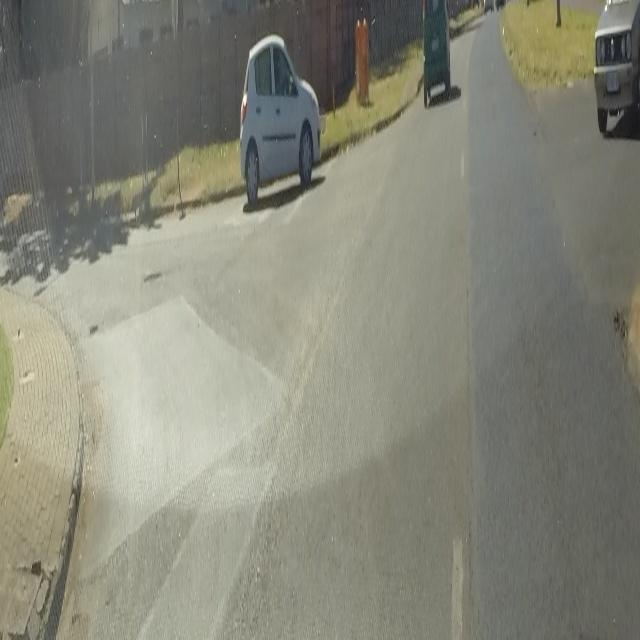pothole: (607, 302, 638, 351), (143, 260, 164, 287)
